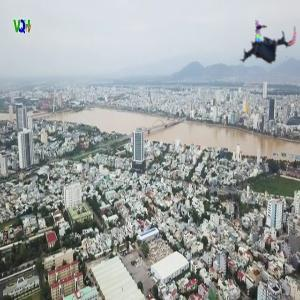drone: (236, 12, 300, 77)
